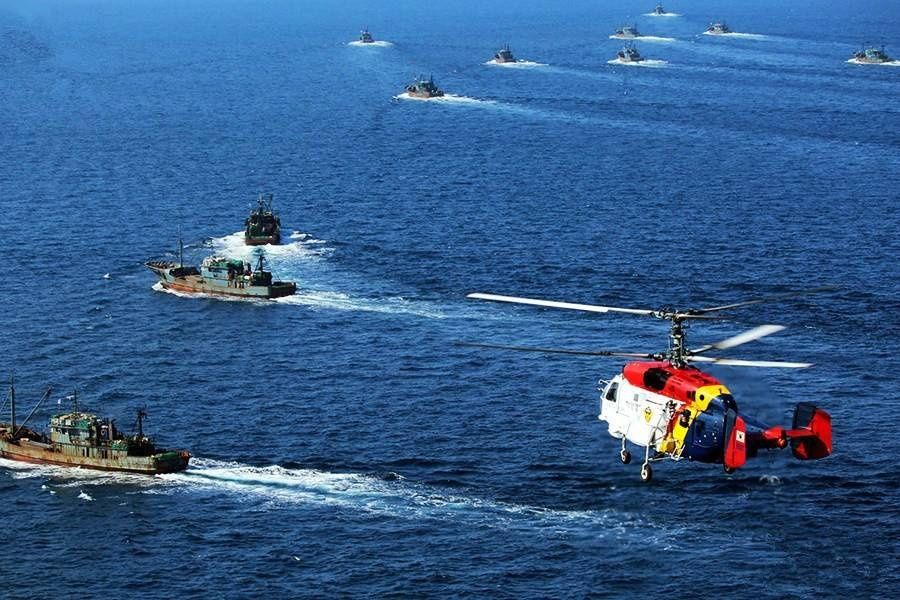airplane: (461, 283, 844, 475)
otherboat: (5, 394, 191, 481), (139, 247, 298, 302), (238, 193, 285, 247), (840, 45, 900, 68), (698, 15, 747, 40), (402, 72, 444, 101), (488, 37, 527, 66), (616, 37, 654, 66), (645, 4, 686, 20), (353, 26, 381, 49)
